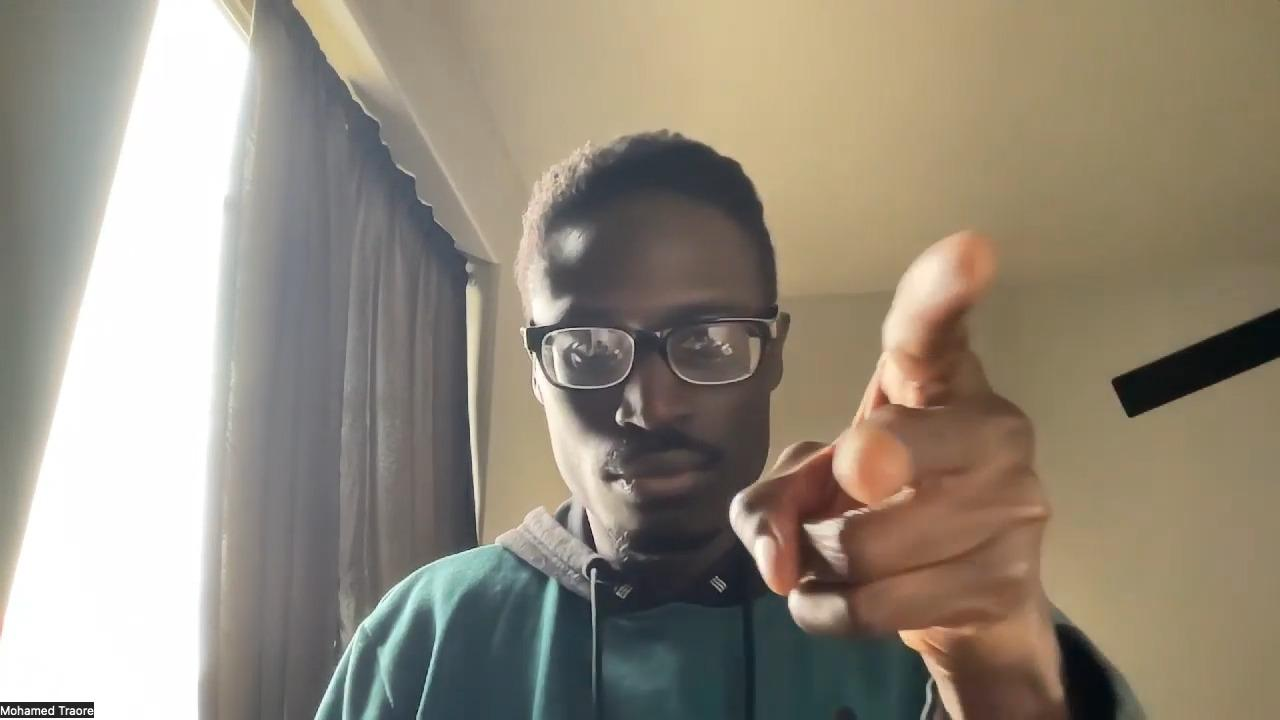Scissors: (728, 227, 1057, 677)
